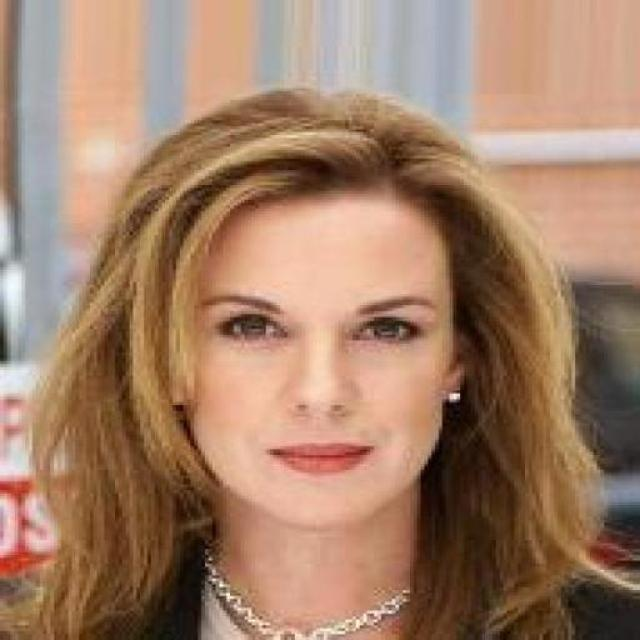bareface: (147, 105, 456, 514)
